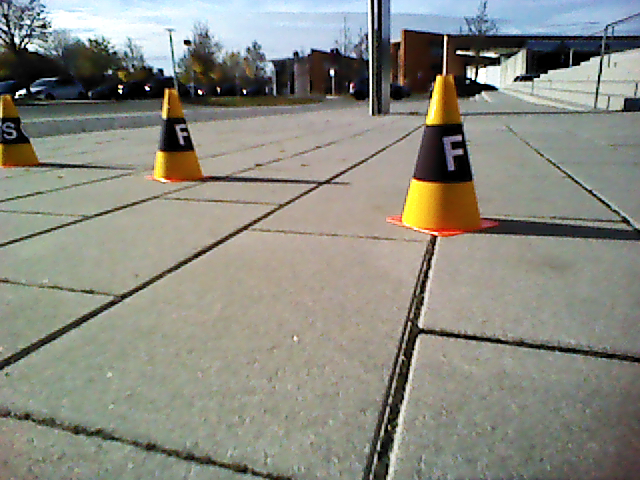yellowcone: (405, 74, 478, 226), (154, 88, 202, 179), (1, 95, 38, 162)
